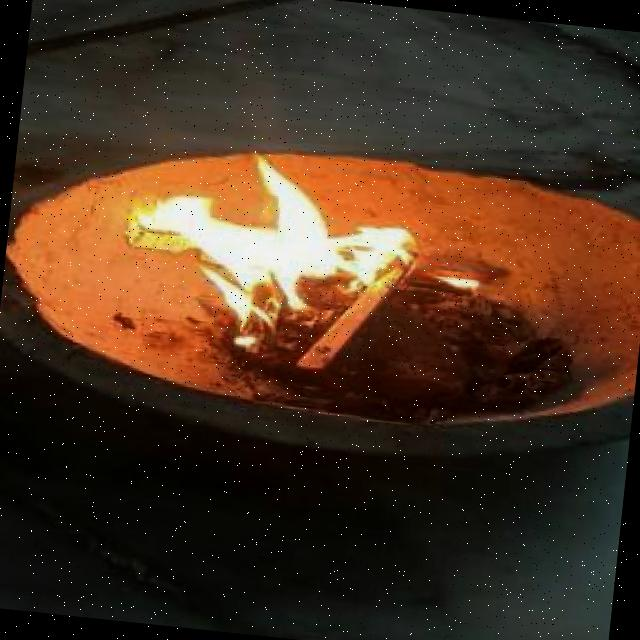fire: (122, 147, 426, 344)
